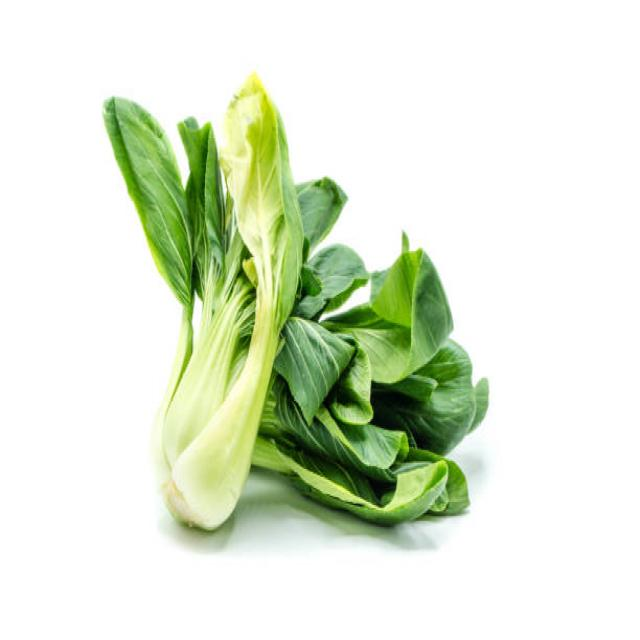bok choy: (106, 133, 294, 532)
